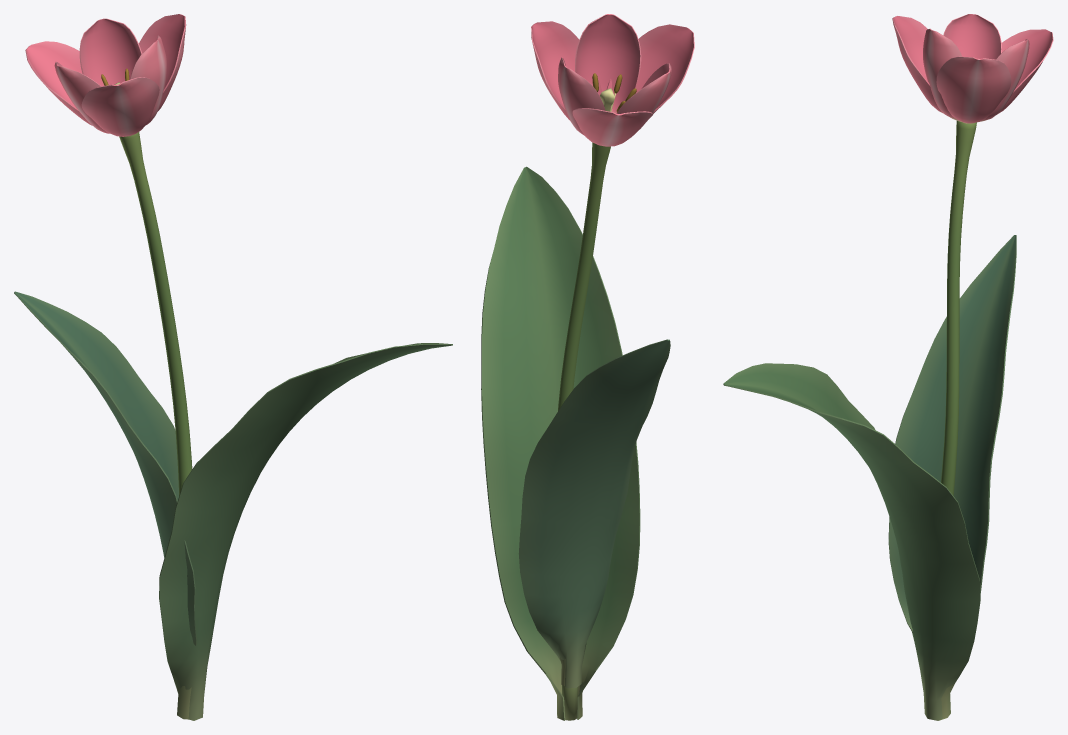
File: full-pink.glb
The picture shows the model from 3 angles, left to right: view 1: azimuth 30°, elevation 25°; view 2: azimuth 150°, elevation 25°; view 3: azimuth 270°, elevation 25°; orthographic projection. The views are drawn at different scales.
Parts seen in each view (by area): view 1: tulip-full-pink; view 2: tulip-full-pink; view 3: tulip-full-pink.
Part boxes in pixels (x1,y1,x2,y2): tulip-full-pink: (14,14,452,720); tulip-full-pink: (481,14,694,720); tulip-full-pink: (723,14,1053,720).
Size of the model in its own units: 0.1677 by 0.3793 by 0.1698.
